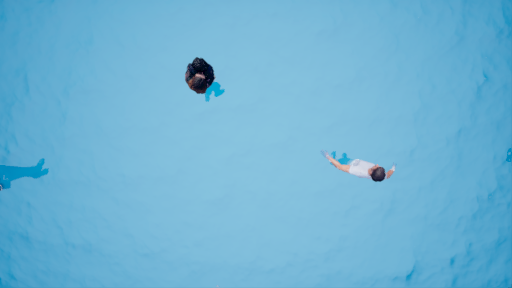person: (179, 49, 229, 108), (322, 148, 397, 183)
